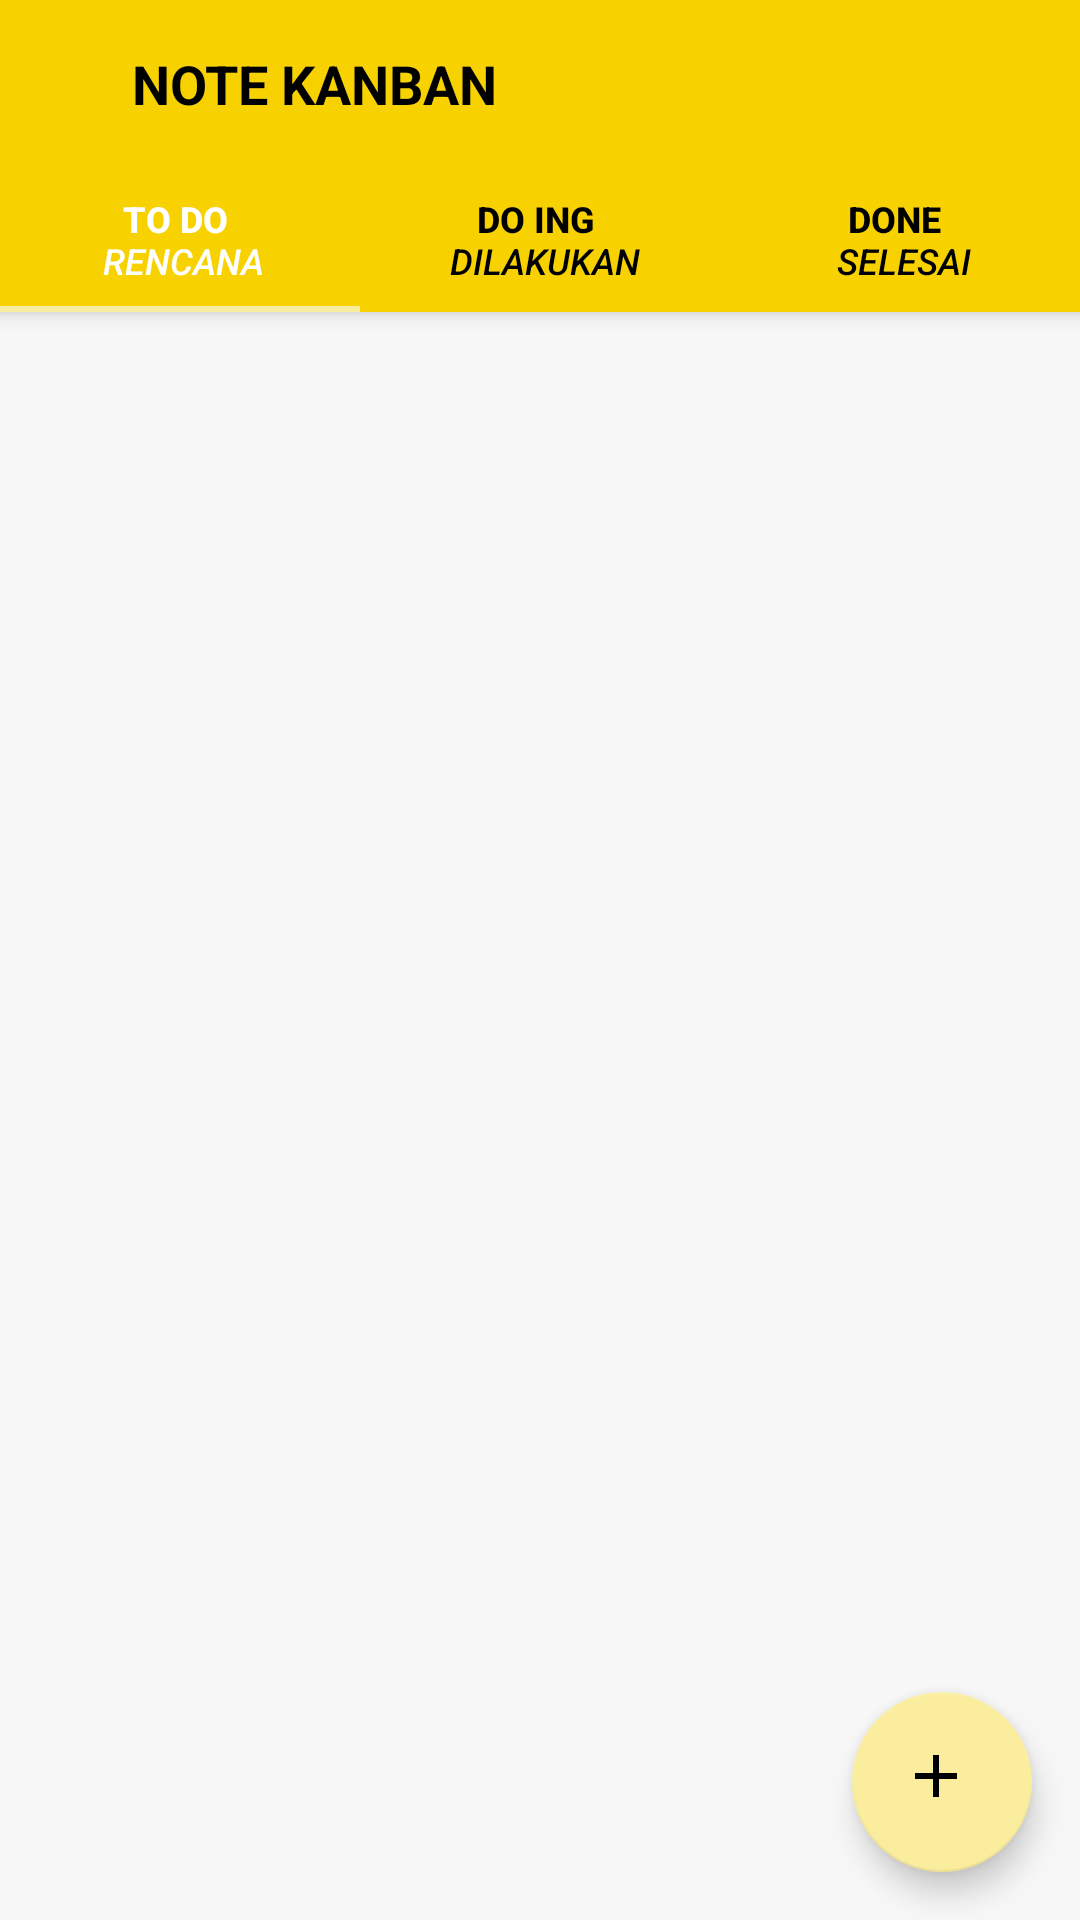

Icons on this 1080px×1920px Android screen, each with its box as [x1,y1,x2,y2]:
add: [852,1692,1032,1872]
